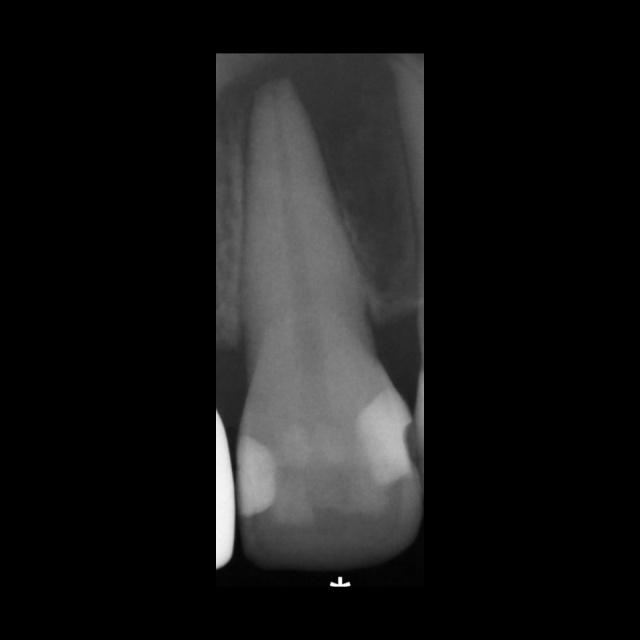tooth: (236, 77, 425, 573)
